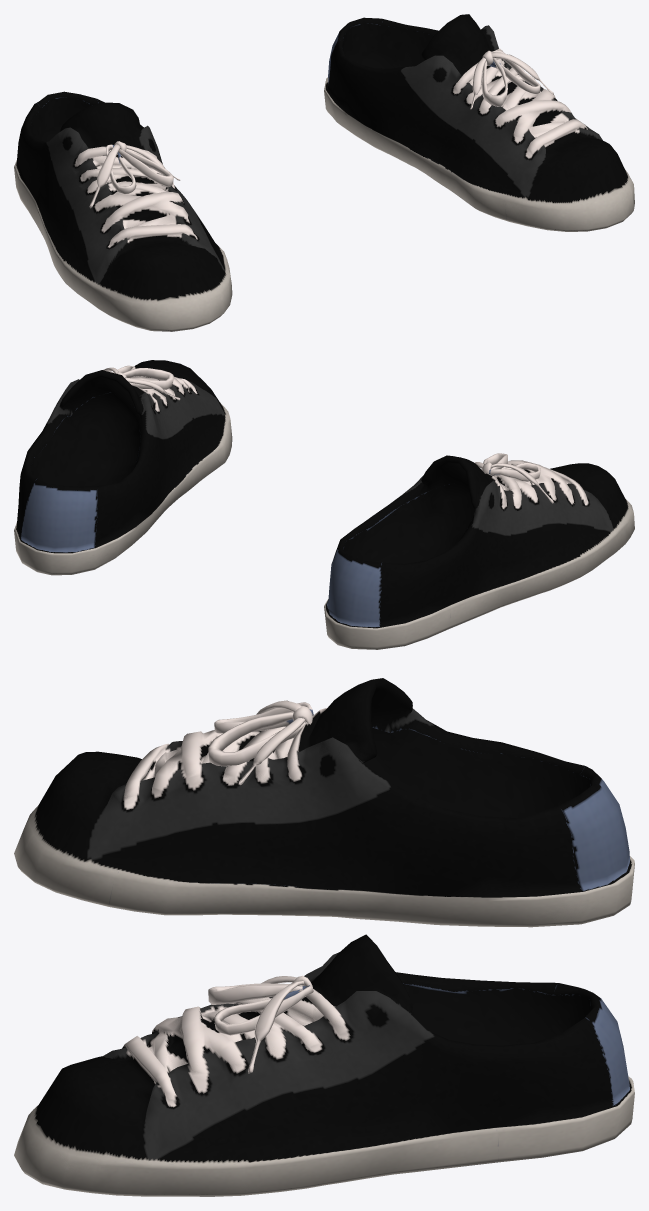
Rendered from shoes.fbx.
3 renders of one model, top to bottom at view 1: azimuth 30°, elevation 25°; view 2: azimuth 150°, elevation 25°; view 3: azimuth 270°, elevation 25°, orthographic. The views are drawn at different scales.
Visible parts, largest first — view 1: Shoes.001; view 2: Shoes.001; view 3: Shoes.001.
Boxes of the visible parts, box(x1,y1,x2,y2) form: Shoes.001: box(14, 14, 634, 331); Shoes.001: box(14, 360, 634, 649); Shoes.001: box(14, 678, 634, 1196).
Bounding box in the file's own units: 814 × 200 × 559.
